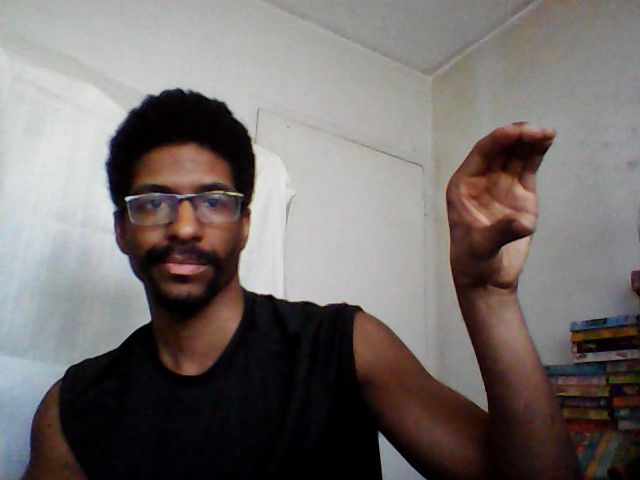c: (440, 118, 562, 296)
